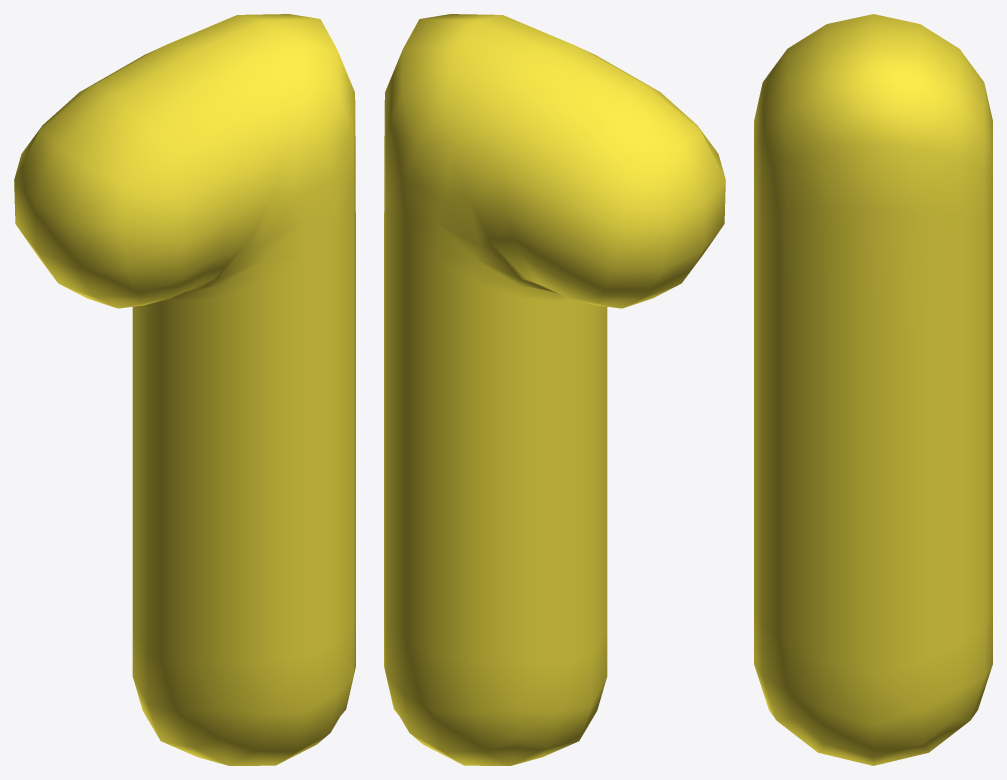
3 views of the same model, side by side, from view 1: azimuth 30°, elevation 25°; view 2: azimuth 150°, elevation 25°; view 3: azimuth 270°, elevation 25° (orthographic). The views are drawn at different scales.
Visible parts, largest first — view 1: 1_wire_115115115_0; view 2: 1_wire_115115115_0; view 3: 1_wire_115115115_0.
Part boxes in pixels (box(x1,y1,x2,y2)): 1_wire_115115115_0: box(14, 14, 355, 765); 1_wire_115115115_0: box(384, 14, 725, 765); 1_wire_115115115_0: box(754, 14, 992, 765).
Size of the model in its own units: 22.25 by 50.44 by 15.33.
